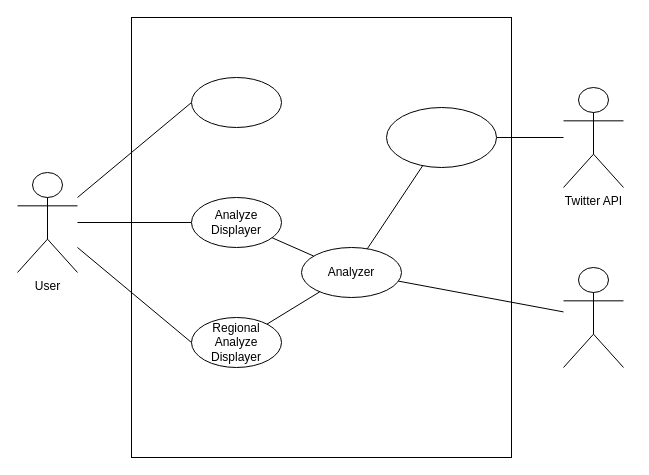
This 649x475 diagram has some shape labels left out. Here are the shapes that lost their labels. From the top down, the box of each, then its label:
(190, 76, 282, 128): Login & Signup
(386, 106, 496, 168): Data Fetching
(562, 266, 624, 368): OpenCageApı
